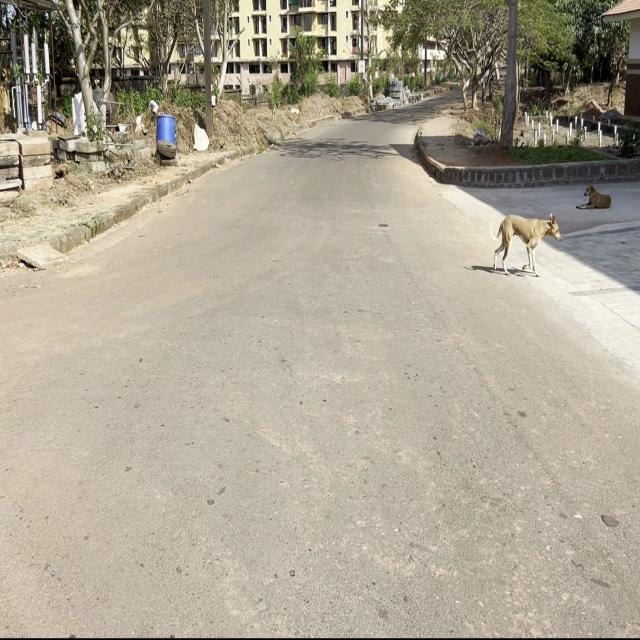Road: (1, 115, 639, 639)
